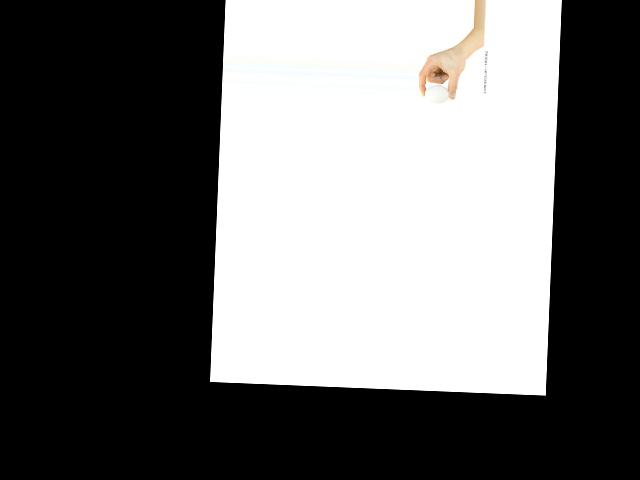egg: (424, 84, 449, 102)
